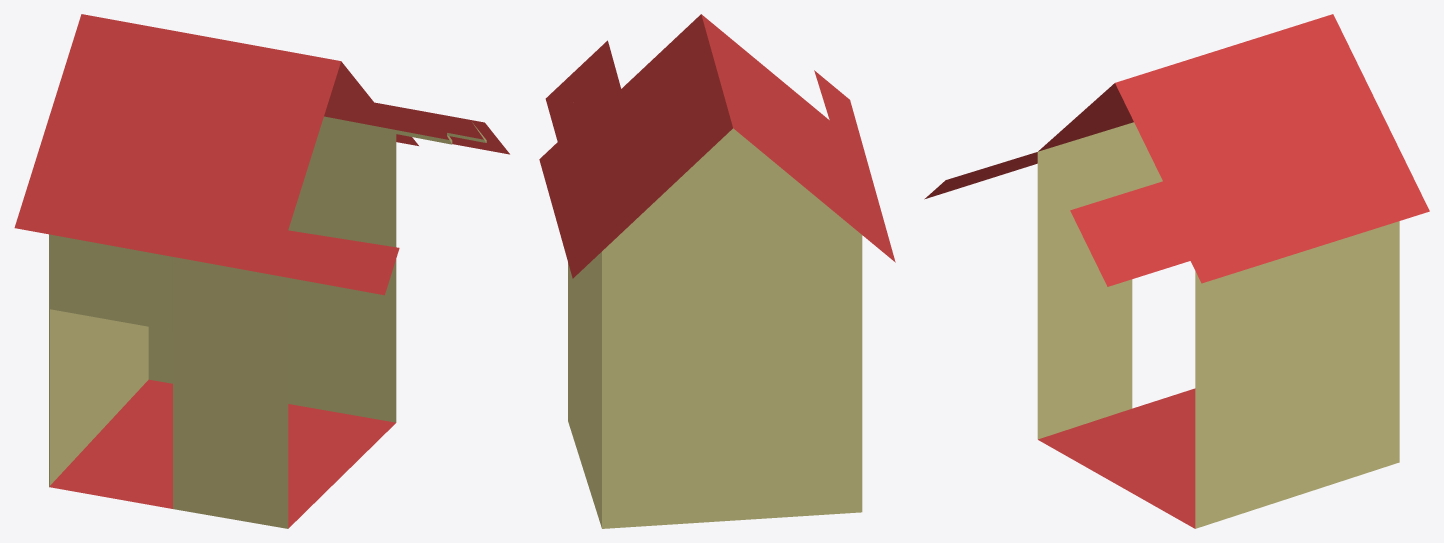
3 renders of one model, left to right at view 1: azimuth 30°, elevation 25°; view 2: azimuth 150°, elevation 25°; view 3: azimuth 270°, elevation 25°, orthographic. The views are drawn at different scales.
Bounding box in the file's own units: 16.13 × 17.06 × 14.9.
